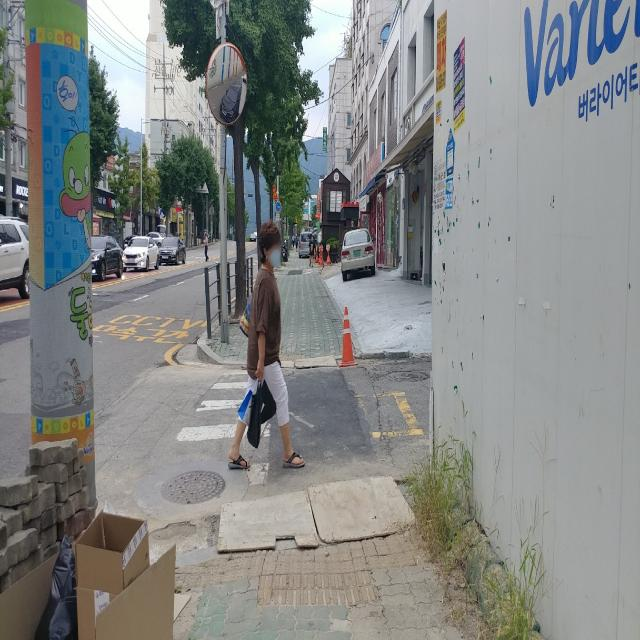횡단보도: (176, 368, 272, 486)
